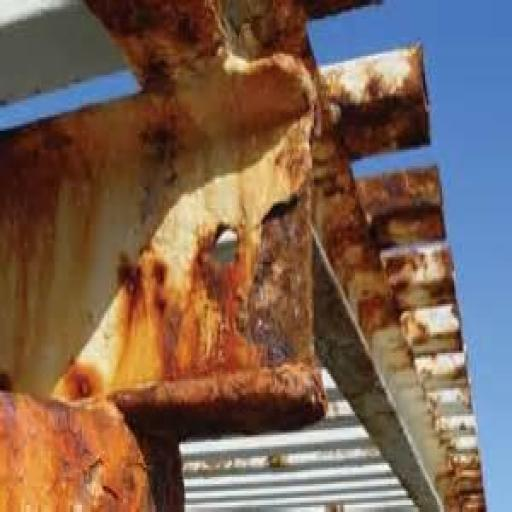segmentation: (0, 0, 384, 510), (312, 167, 459, 342), (316, 43, 439, 159)
